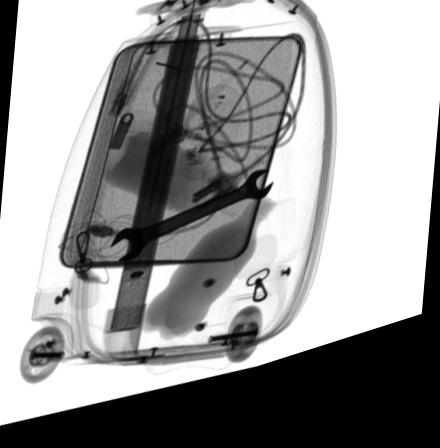Wrench: (109, 184, 274, 269)
